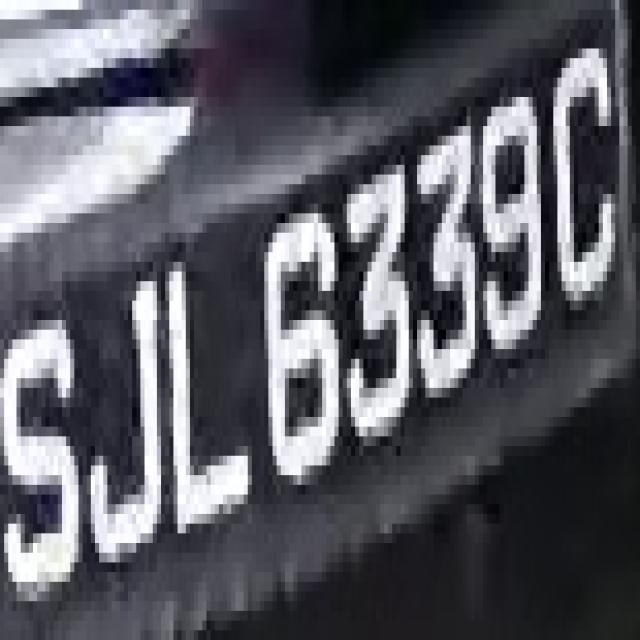3: (409, 126, 495, 407), (343, 155, 417, 466)
6: (256, 184, 347, 504)
9: (475, 78, 549, 378)
C: (541, 10, 623, 320)
J: (78, 194, 170, 562)
L: (153, 223, 256, 562)
S: (8, 242, 78, 611)
